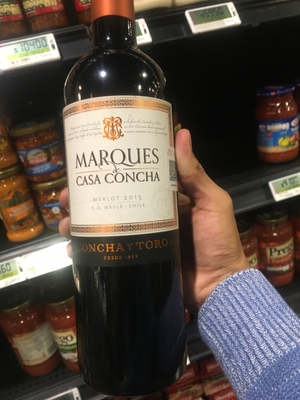marques de casa concha merlot: (57, 12, 198, 384)
